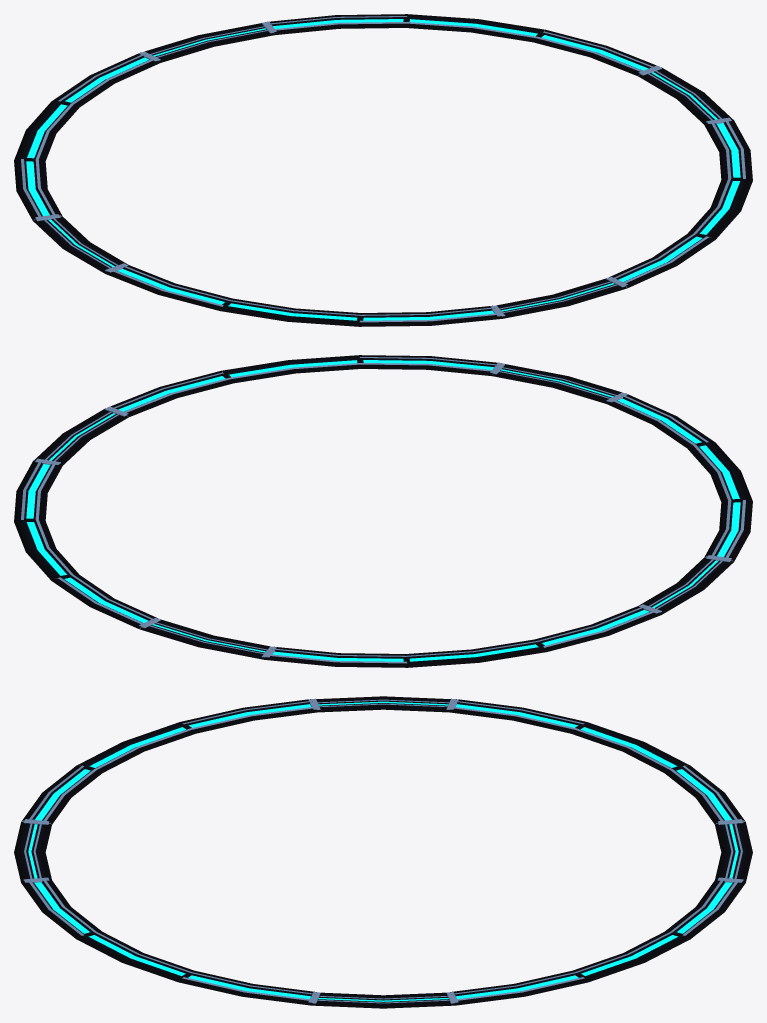
The model's file is SM_Hub_QueuePadRing_01.glb.
3 views of the same model, one above another, from view 1: azimuth 30°, elevation 25°; view 2: azimuth 150°, elevation 25°; view 3: azimuth 270°, elevation 25° (orthographic).
Parts seen in each view (by area): view 1: GEO_QueuePadRing_BaseCollar, GEO_QueuePadRing_ChannelInlay, GEO_QueuePadRing_TrimBezels, GEO_QueuePadRing_CyanConduit; view 2: GEO_QueuePadRing_BaseCollar, GEO_QueuePadRing_ChannelInlay, GEO_QueuePadRing_TrimBezels, GEO_QueuePadRing_CyanConduit; view 3: GEO_QueuePadRing_BaseCollar, GEO_QueuePadRing_ChannelInlay, GEO_QueuePadRing_TrimBezels, GEO_QueuePadRing_CyanConduit.
Part boxes in pixels (left/top/right/bottom): GEO_QueuePadRing_BaseCollar: left=14, top=14, right=752, bottom=326; GEO_QueuePadRing_ChannelInlay: left=21, top=15, right=745, bottom=322; GEO_QueuePadRing_TrimBezels: left=21, top=16, right=745, bottom=322; GEO_QueuePadRing_CyanConduit: left=26, top=19, right=740, bottom=320; GEO_QueuePadRing_BaseCollar: left=14, top=355, right=752, bottom=667; GEO_QueuePadRing_ChannelInlay: left=21, top=356, right=745, bottom=663; GEO_QueuePadRing_TrimBezels: left=21, top=357, right=745, bottom=663; GEO_QueuePadRing_CyanConduit: left=26, top=360, right=740, bottom=661; GEO_QueuePadRing_BaseCollar: left=14, top=696, right=752, bottom=1008; GEO_QueuePadRing_ChannelInlay: left=21, top=698, right=745, bottom=1004; GEO_QueuePadRing_TrimBezels: left=23, top=698, right=743, bottom=1003; GEO_QueuePadRing_CyanConduit: left=28, top=701, right=738, bottom=1001.
Size of the model in its own units: 28 by 0.076 by 28.
4 materials, 4 textured.
